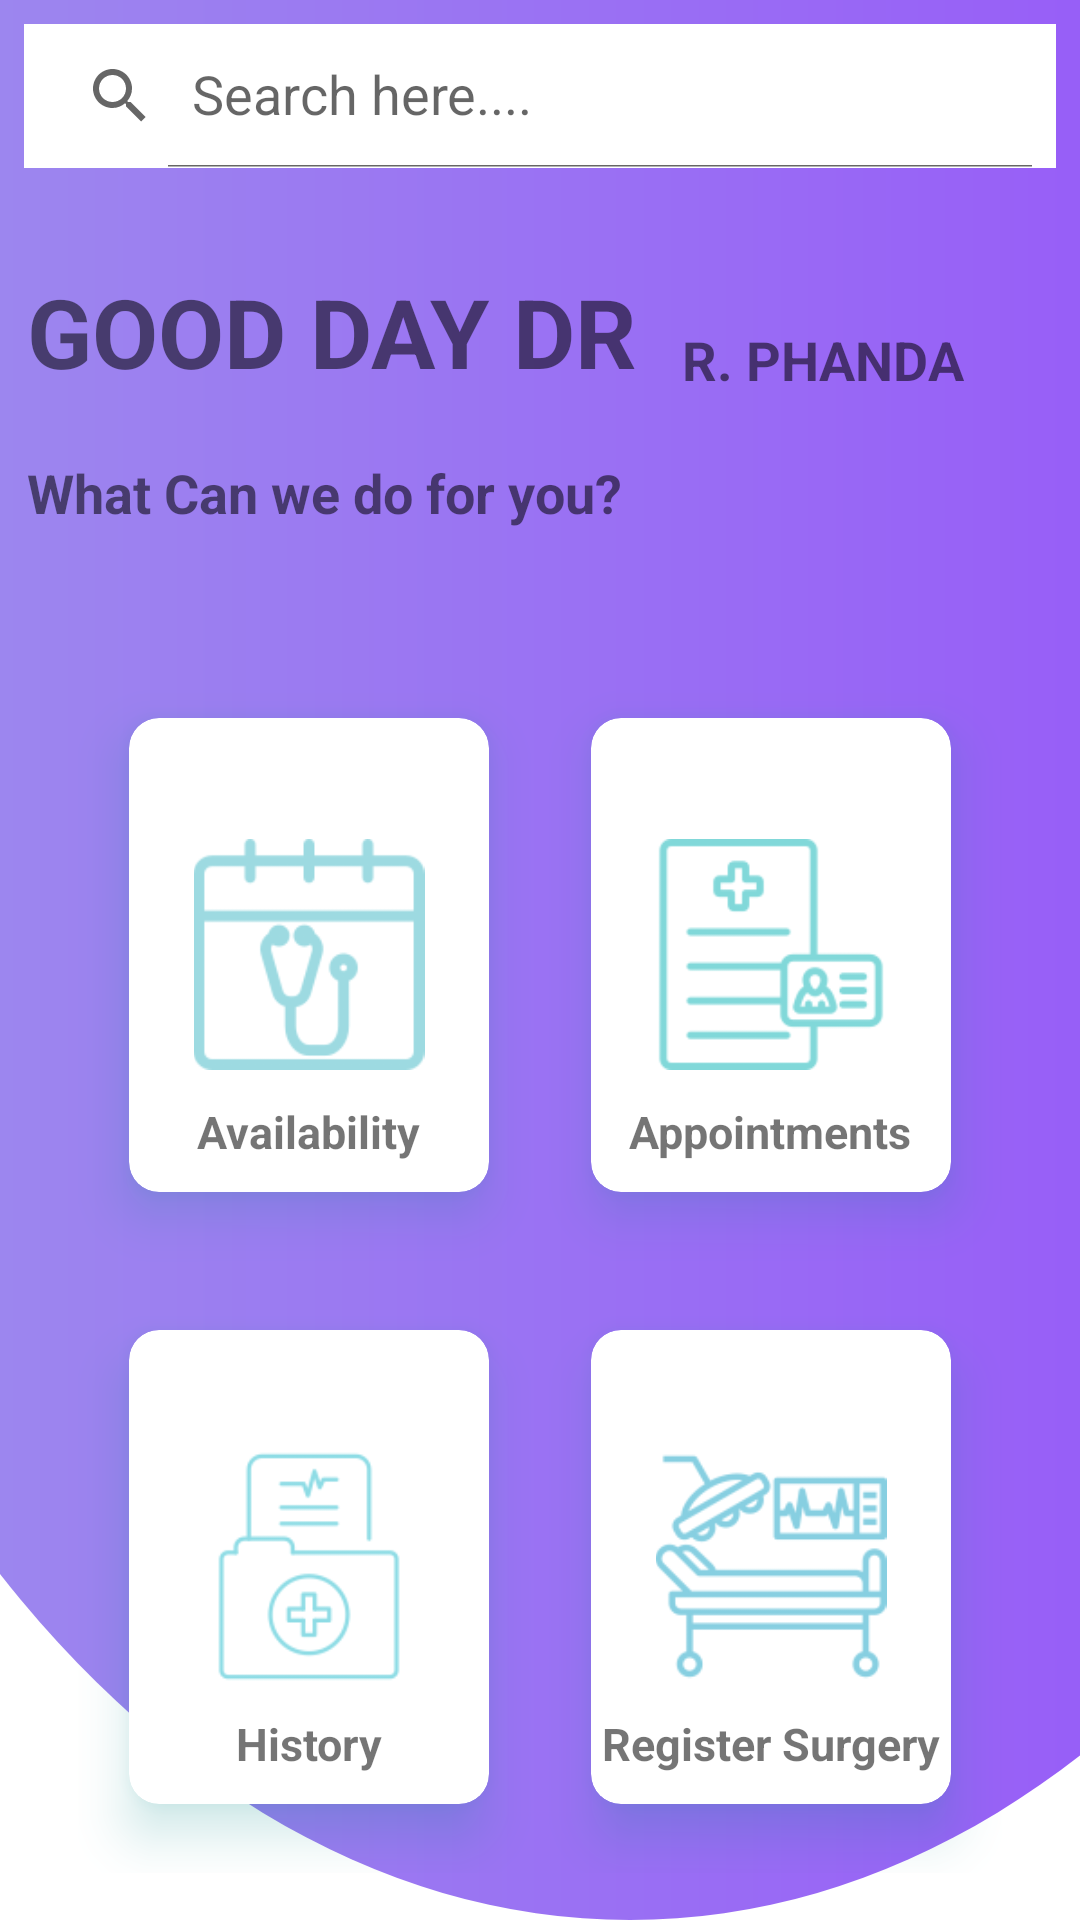

Screen size 1080 × 1920. Icon name, then its center in pixels as point (x, y):
calendar: point (309, 954)
medicalrecord: point (309, 1566)
registrationform: point (771, 954)
